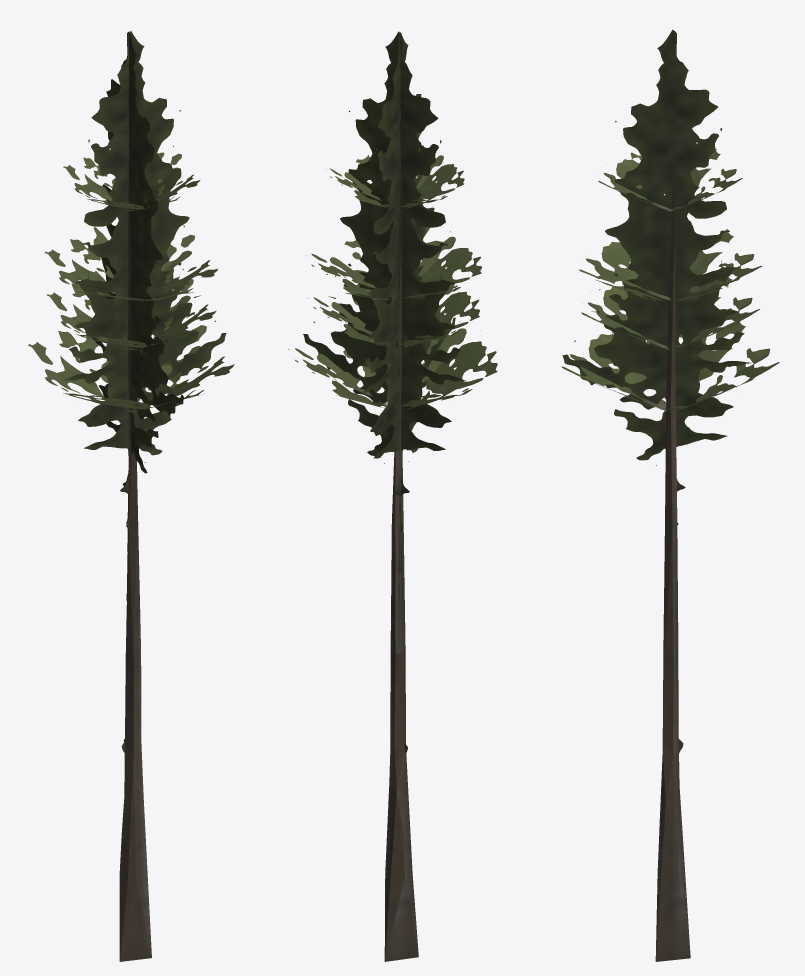
File: forest_pine006.glb
The picture shows the model from 3 angles, left to right: view 1: azimuth 30°, elevation 25°; view 2: azimuth 150°, elevation 25°; view 3: azimuth 270°, elevation 25°; orthographic projection.
Size of the model in its own units: 1.83 by 7.75 by 1.82.
1 material, 1 textured.
